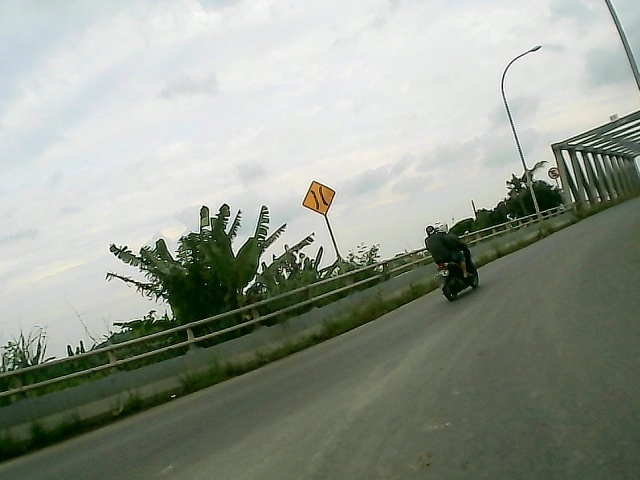Jembatan: (301, 179, 337, 218)
